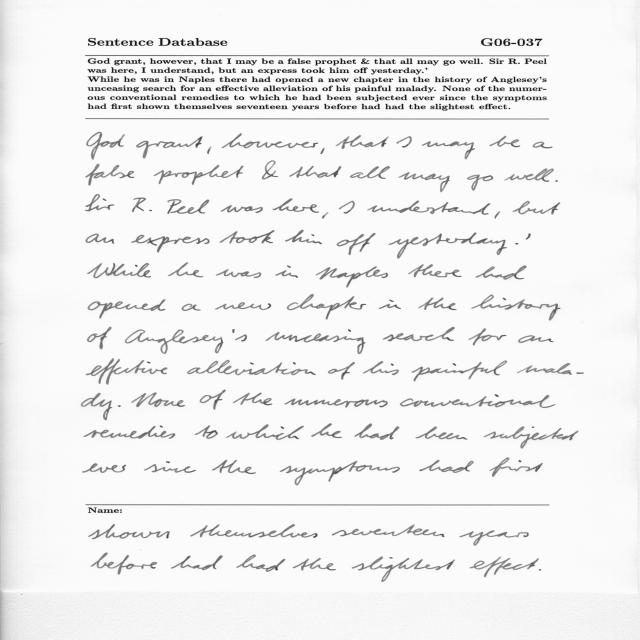word: (389, 233, 507, 259), (125, 329, 247, 354), (279, 461, 400, 486), (266, 330, 366, 355), (471, 294, 561, 321), (483, 426, 579, 449), (400, 394, 555, 408), (86, 359, 168, 385), (287, 294, 366, 320), (412, 361, 508, 382), (226, 423, 342, 440), (187, 360, 316, 375), (367, 200, 491, 215), (154, 165, 244, 185), (316, 266, 388, 288), (136, 136, 203, 159), (89, 299, 166, 319), (222, 133, 319, 148), (131, 235, 210, 253), (84, 425, 175, 439), (382, 327, 455, 342), (87, 132, 125, 160), (86, 164, 134, 186), (398, 172, 450, 192), (489, 458, 543, 477), (422, 141, 475, 160), (88, 263, 151, 278), (284, 399, 388, 408), (337, 233, 376, 255), (82, 393, 112, 421), (132, 393, 186, 408), (517, 363, 584, 375), (354, 423, 400, 440), (475, 265, 527, 280), (220, 230, 275, 244), (408, 264, 462, 278), (336, 135, 389, 149), (419, 460, 474, 473), (272, 198, 319, 213), (504, 168, 554, 182), (469, 328, 507, 346), (416, 427, 468, 440), (513, 201, 561, 215), (289, 166, 342, 178), (168, 199, 210, 214), (144, 461, 196, 473), (212, 460, 256, 474), (199, 390, 226, 410), (88, 327, 112, 349), (350, 166, 390, 179), (285, 230, 322, 244), (418, 297, 457, 310), (363, 361, 399, 375), (86, 195, 115, 212), (168, 263, 203, 277), (328, 362, 355, 380), (233, 393, 272, 405), (215, 302, 271, 310), (467, 174, 493, 191), (83, 463, 126, 473), (216, 269, 261, 278), (220, 205, 263, 213), (489, 136, 520, 147), (194, 425, 218, 439), (86, 233, 114, 244), (262, 161, 278, 180), (132, 197, 152, 212), (275, 265, 298, 278), (518, 335, 553, 343), (379, 300, 401, 310), (339, 201, 355, 214), (397, 136, 412, 148), (181, 304, 201, 311), (533, 142, 553, 148), (322, 212, 329, 219), (495, 211, 501, 219), (320, 148, 325, 154), (526, 234, 531, 240), (207, 147, 211, 154), (555, 180, 558, 182), (516, 243, 519, 245), (118, 405, 121, 407)
